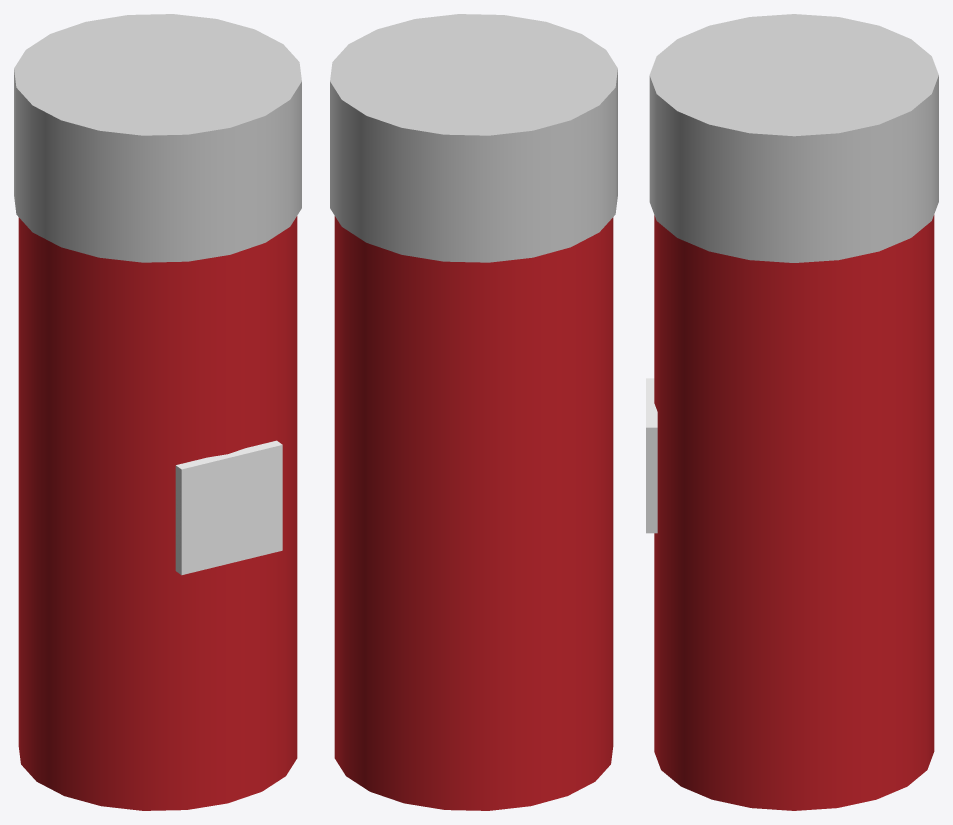
Rendered from thermos.glb.
The picture shows the model from 3 angles, left to right: view 1: azimuth 30°, elevation 25°; view 2: azimuth 150°, elevation 25°; view 3: azimuth 270°, elevation 25°; orthographic projection.
Parts seen in each view (by area): view 1: thermos_body; view 2: thermos_body; view 3: thermos_body.
Part boxes in pixels (bbox=[...]): thermos_body: bbox=[14, 14, 301, 810]; thermos_body: bbox=[330, 14, 617, 810]; thermos_body: bbox=[646, 14, 938, 810].
Bounding box in the file's own units: 0.124 × 0.32 × 0.1255.
